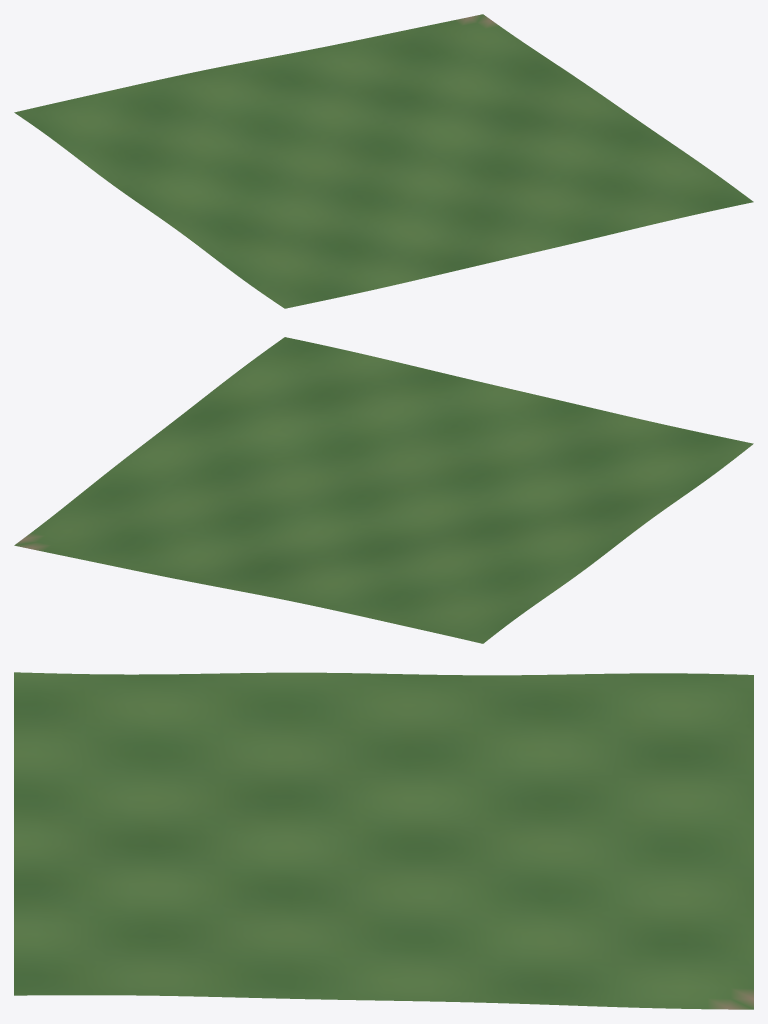
The model's file is chunk_8_7.glb.
The picture shows the model from 3 angles, top to bottom: view 1: azimuth 30°, elevation 25°; view 2: azimuth 150°, elevation 25°; view 3: azimuth 270°, elevation 25°; orthographic projection. The views are drawn at different scales.
Size of the model in its own units: 512 by 18.82 by 512.
